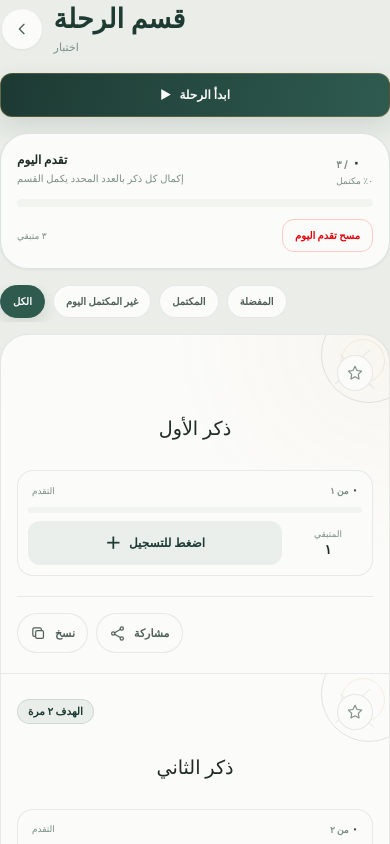
Test: azkar journey › navigates with next and previous
Click the button with aria-label "بدء رحلة الأذكار المتسلسلة": click(195, 95) [0,73,389,117]
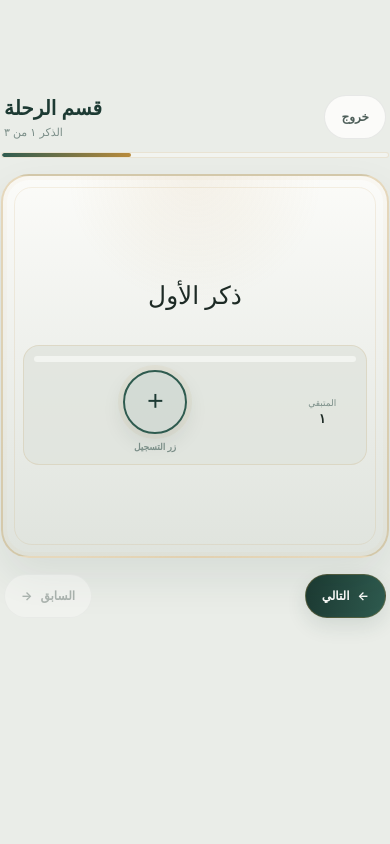
Result: the button "→ السابق" is disabled at [4,574,92,618]
Click the button "التالي ←": click(345, 596) [305,574,386,618]
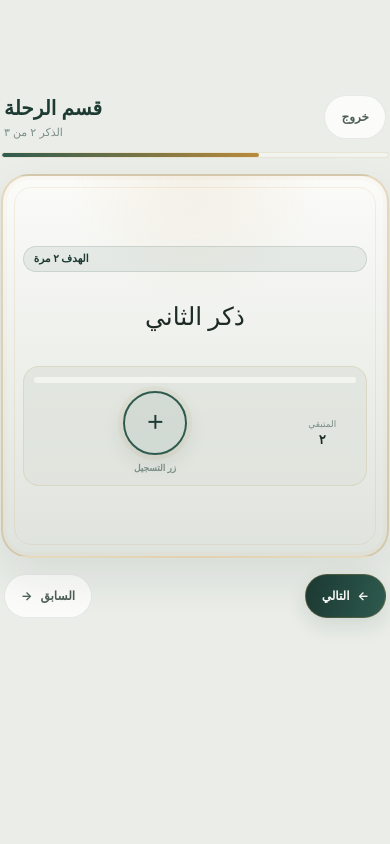
Click the button "→ السابق": click(48, 596) [4,574,92,618]
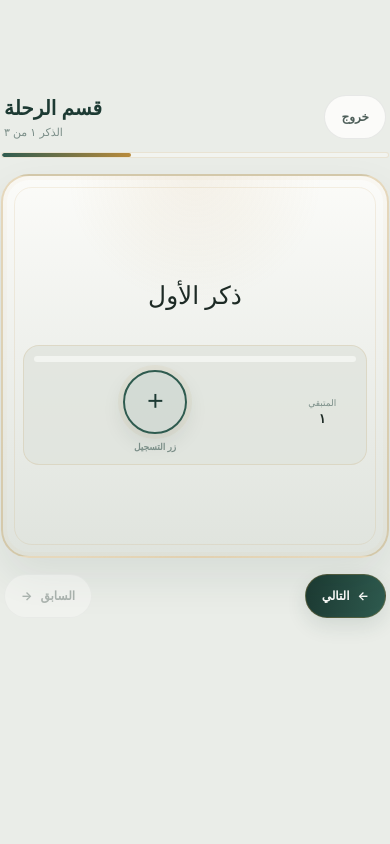
Click the button "التالي ←": click(345, 596) [305,574,386,618]
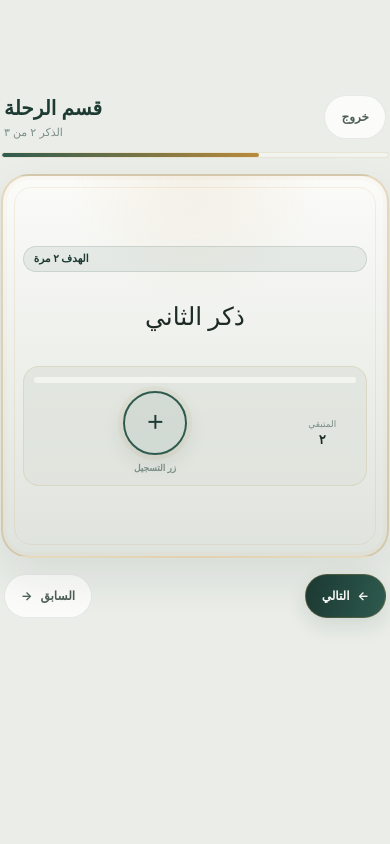
Click the button "التالي ←": click(345, 596) [305,574,386,618]
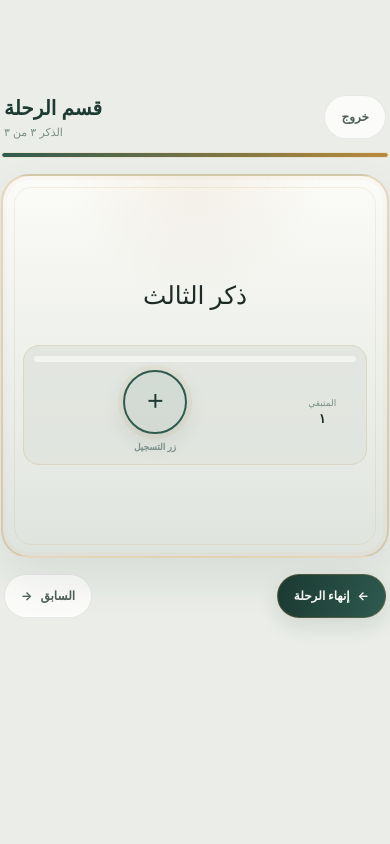
Result: the button "إنهاء الرحلة ←" is shown at [277,574,386,618]
Result: the button "التالي" is gone
